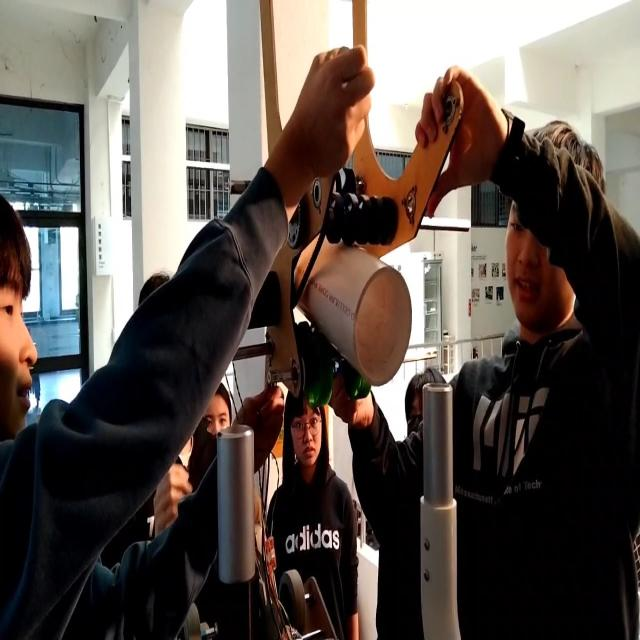CORAL: (296, 220, 412, 388)
